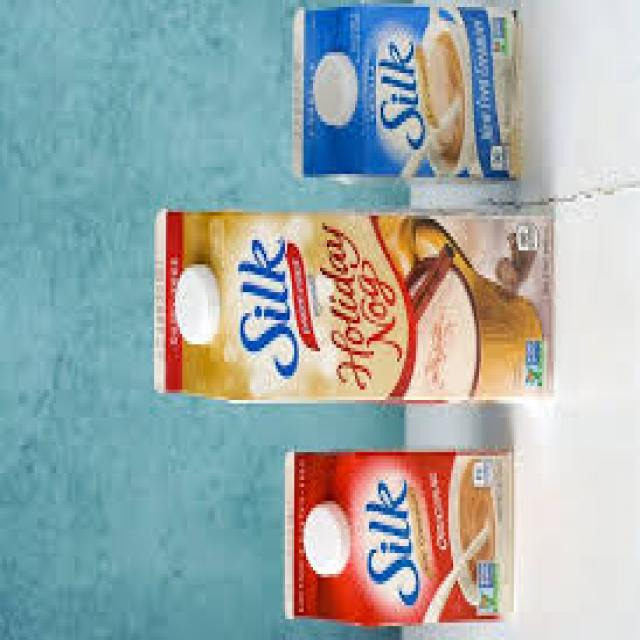non_white_jug: (152, 202, 559, 406), (291, 0, 527, 184), (279, 445, 515, 624)
